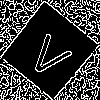V: (24, 25, 79, 82)
